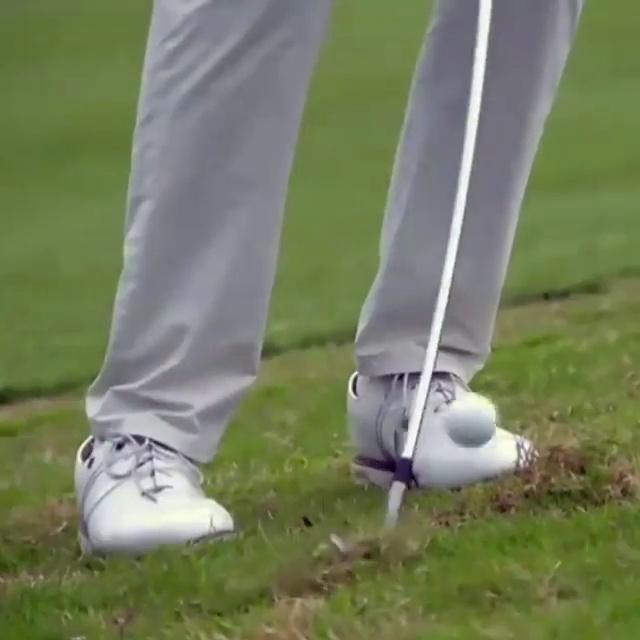ClubHandle: (332, 0, 490, 569)
ClubHead: (332, 524, 388, 568)
GolfBall: (443, 391, 497, 448)
